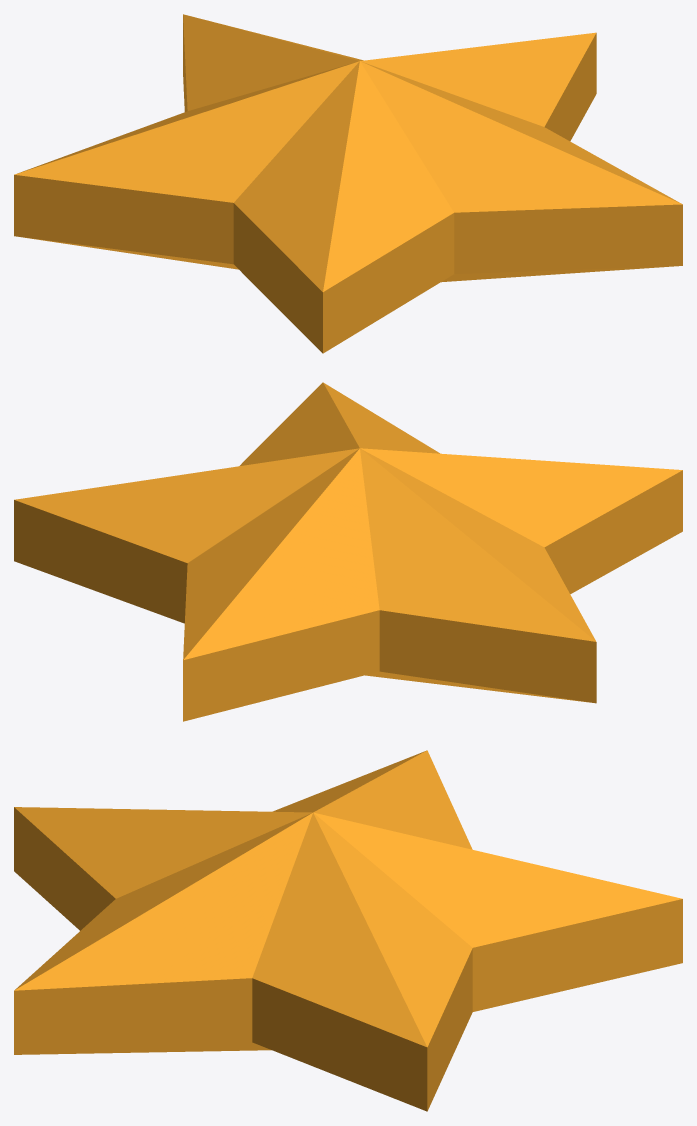
Rendered from SM_Decor_Star_4july.fbx.
The picture shows the model from 3 angles, top to bottom: view 1: azimuth 30°, elevation 25°; view 2: azimuth 150°, elevation 25°; view 3: azimuth 270°, elevation 25°; orthographic projection. The views are drawn at different scales.
Parts seen in each view (by area): view 1: decor-star-4july; view 2: decor-star-4july; view 3: decor-star-4july.
Part boxes in pixels (x1,y1,x2,y2): decor-star-4july: [14, 14, 682, 353]; decor-star-4july: [14, 382, 682, 721]; decor-star-4july: [14, 750, 682, 1111].
Bounding box in the file's own units: 0.0822 × 0.0306 × 0.0782.
